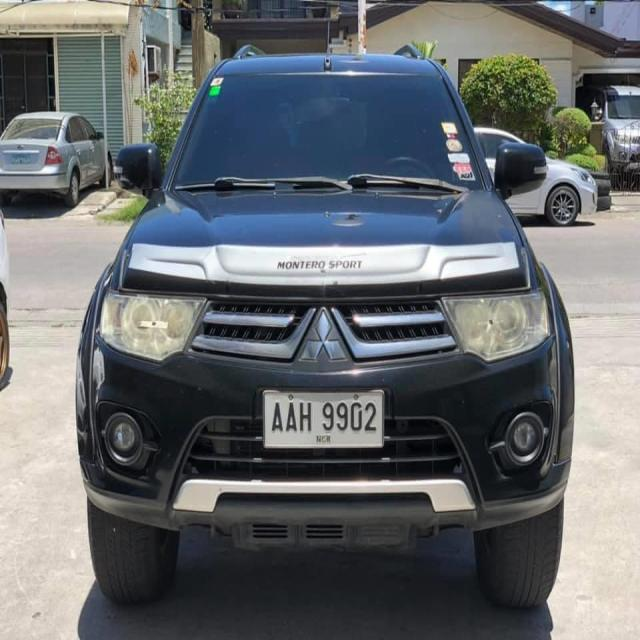number: (263, 390, 384, 448)
